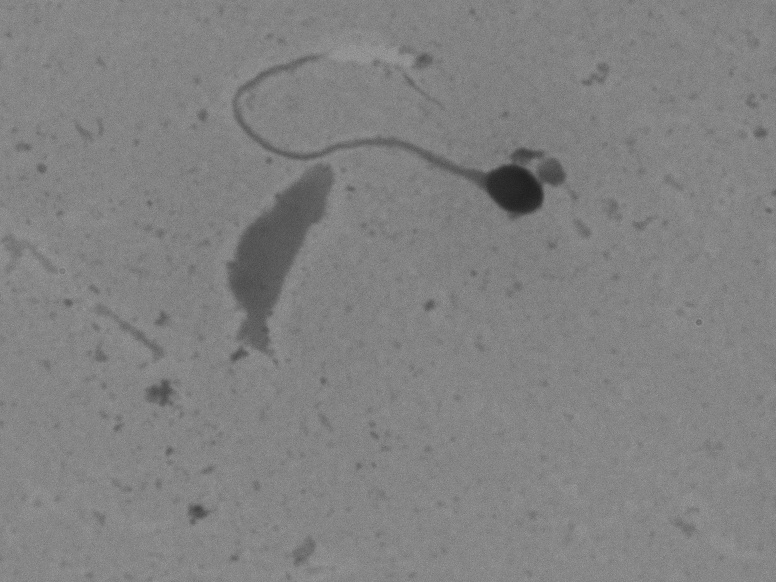Abnormal: (214, 43, 552, 226)
